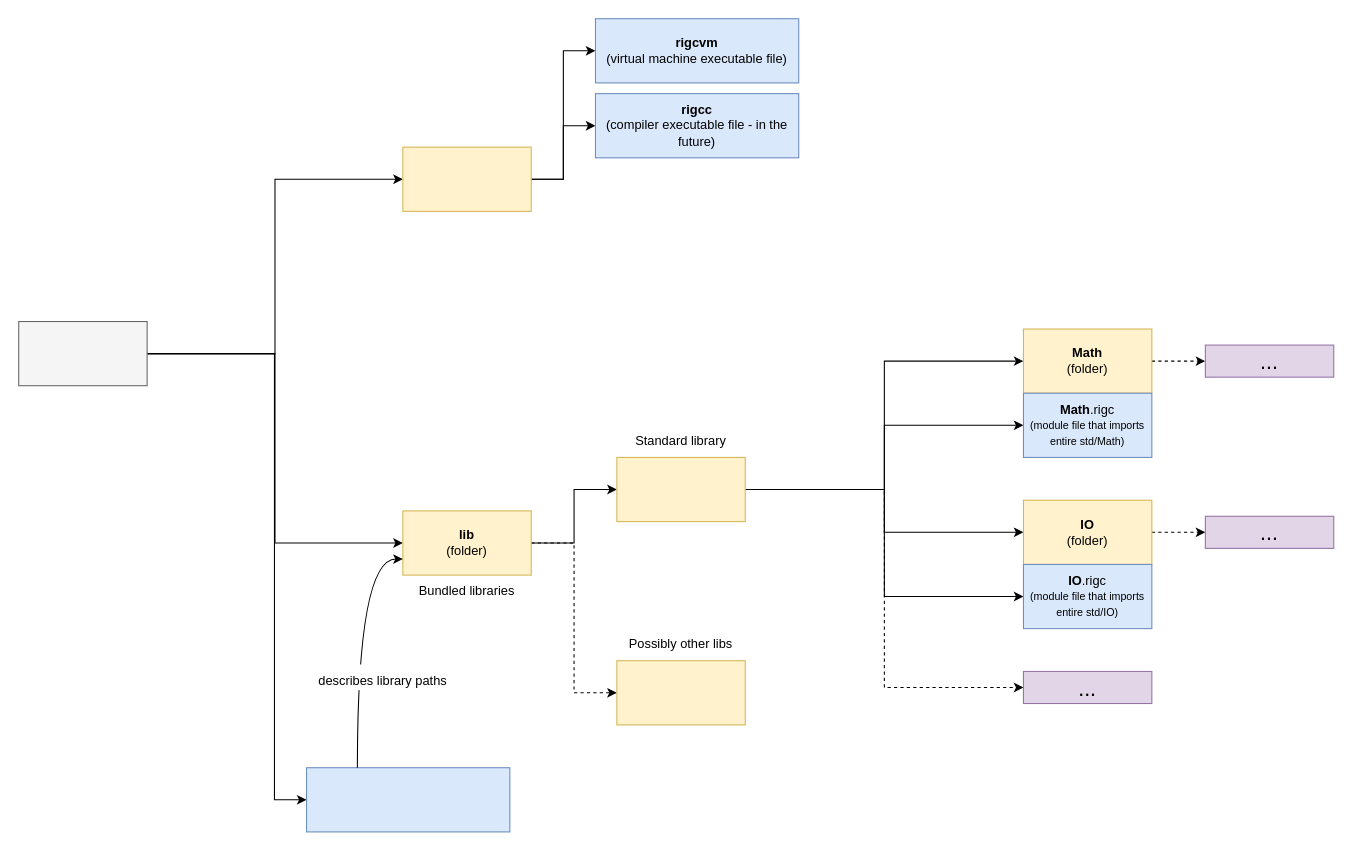
The diagram is 1352 pixels wide and 859 high, and some of its shapes have lost their labels. Here are the shapes that lost their labels. From the top down, the centre of each, then its label:
At point 466,178: "bin (folder)".
At point 82,353: ". ( root folder)".
At point 680,489: "std (folder)".
At point 680,692: "? (folder)".
At point 407,799: "config.json (lang configuration file)".
